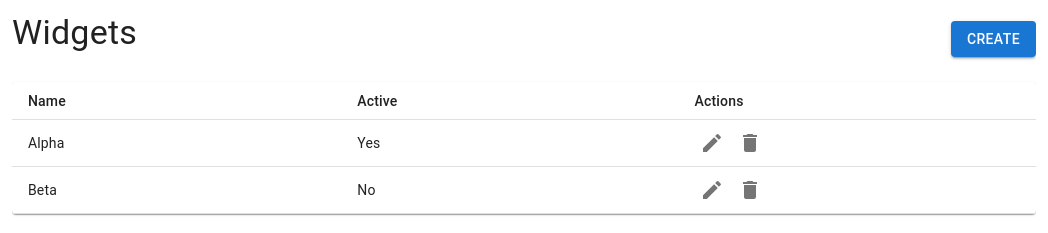
it: CrudPage › shows the delete error on the table when delete fails
The image size is (1048, 233).
expect the text "Alpha" is shown: met, box [28,135,64,151]
Click the button with test id "row-delete-button" in the row of "Alpha" at (750, 143), box [733,126,767,160]
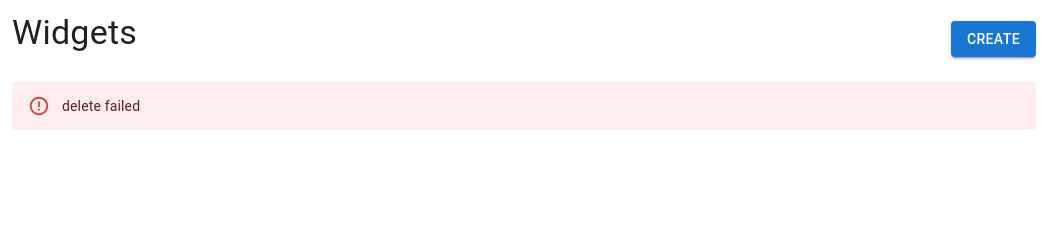
expect the message reads "delete failed": met, box [62,98,140,114]
